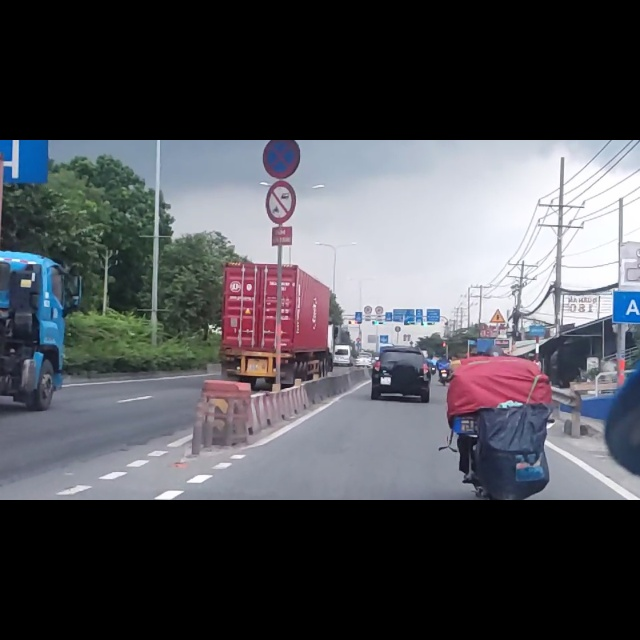bien_hieu_lenh: (262, 2, 301, 68), (264, 73, 297, 148), (489, 300, 506, 325)
